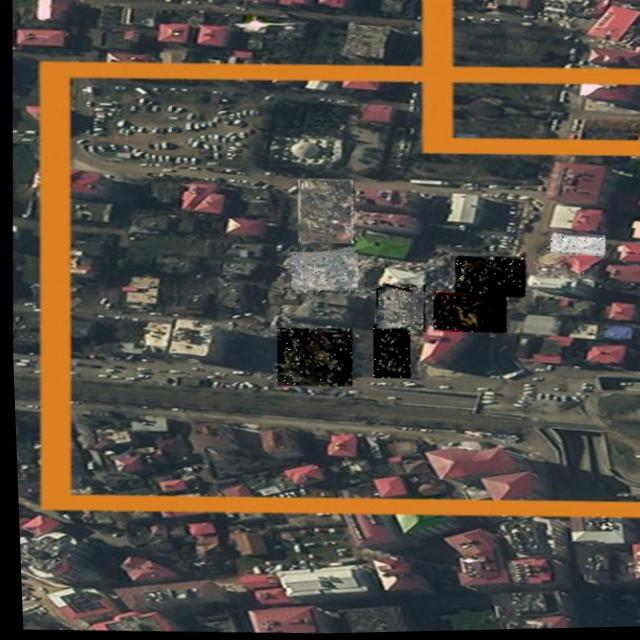Rubble: (270, 327, 349, 389), (293, 179, 352, 246), (285, 248, 357, 295), (428, 293, 503, 336), (451, 257, 523, 300), (370, 284, 423, 334), (367, 326, 408, 380), (546, 235, 603, 259), (533, 266, 595, 282)
